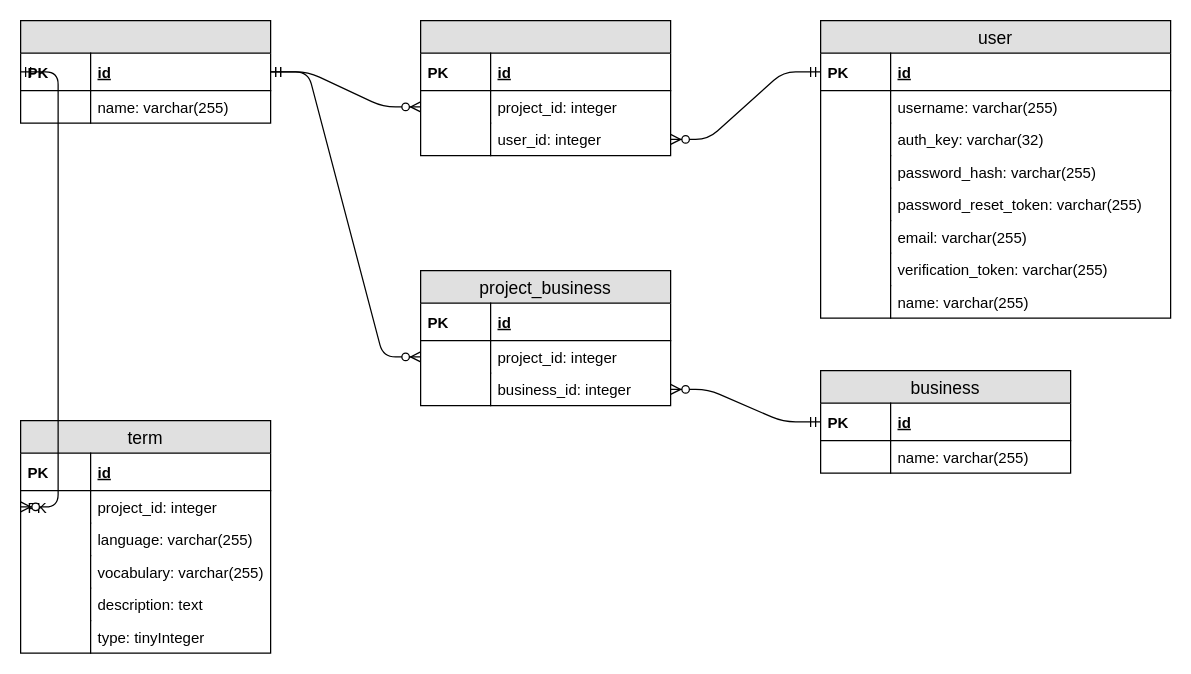
Some shapes in this 1191 by 674 pixel diagram are drawn without their labels. The box of each missing label's shape, as (x1, y1, x2, y2) in pixels:
project: (19, 19, 271, 123)
project_user: (419, 19, 671, 156)
